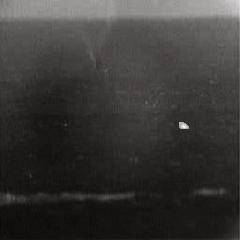Target: (178, 120, 190, 130)
